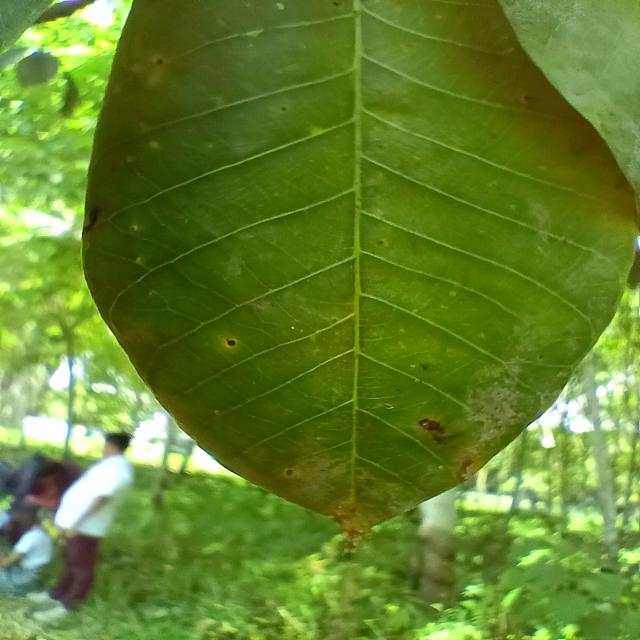Colletotrichum: (227, 340, 236, 346)
